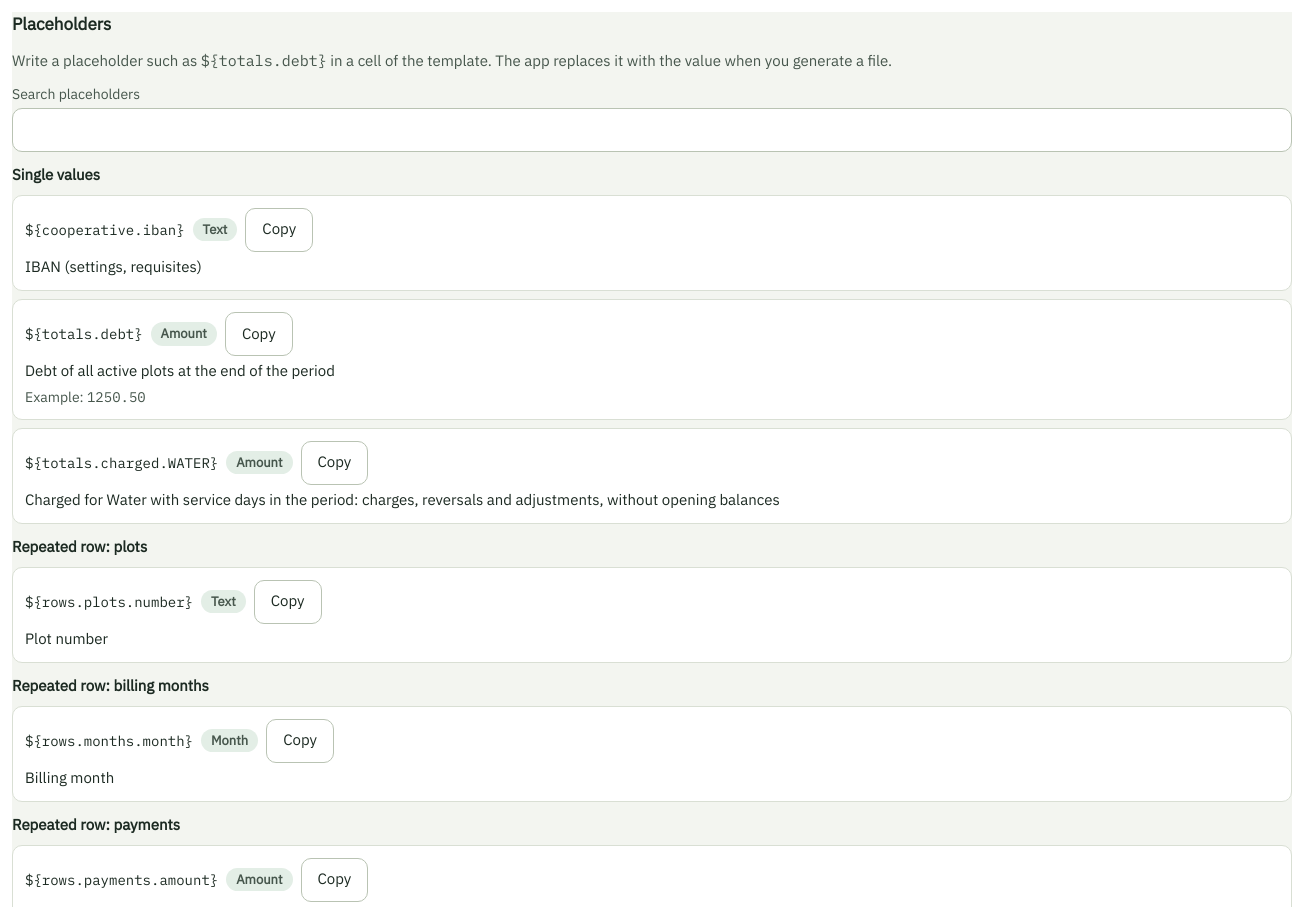
FieldCatalog › says it could not copy when the clipboard and the fallback both fail
This screenshot has width=1304, height=907.
Step 1. Click the button named "Copy the placeholder: Debt of all active plots at the end of the period" → [259, 334], box [225,312,293,356]
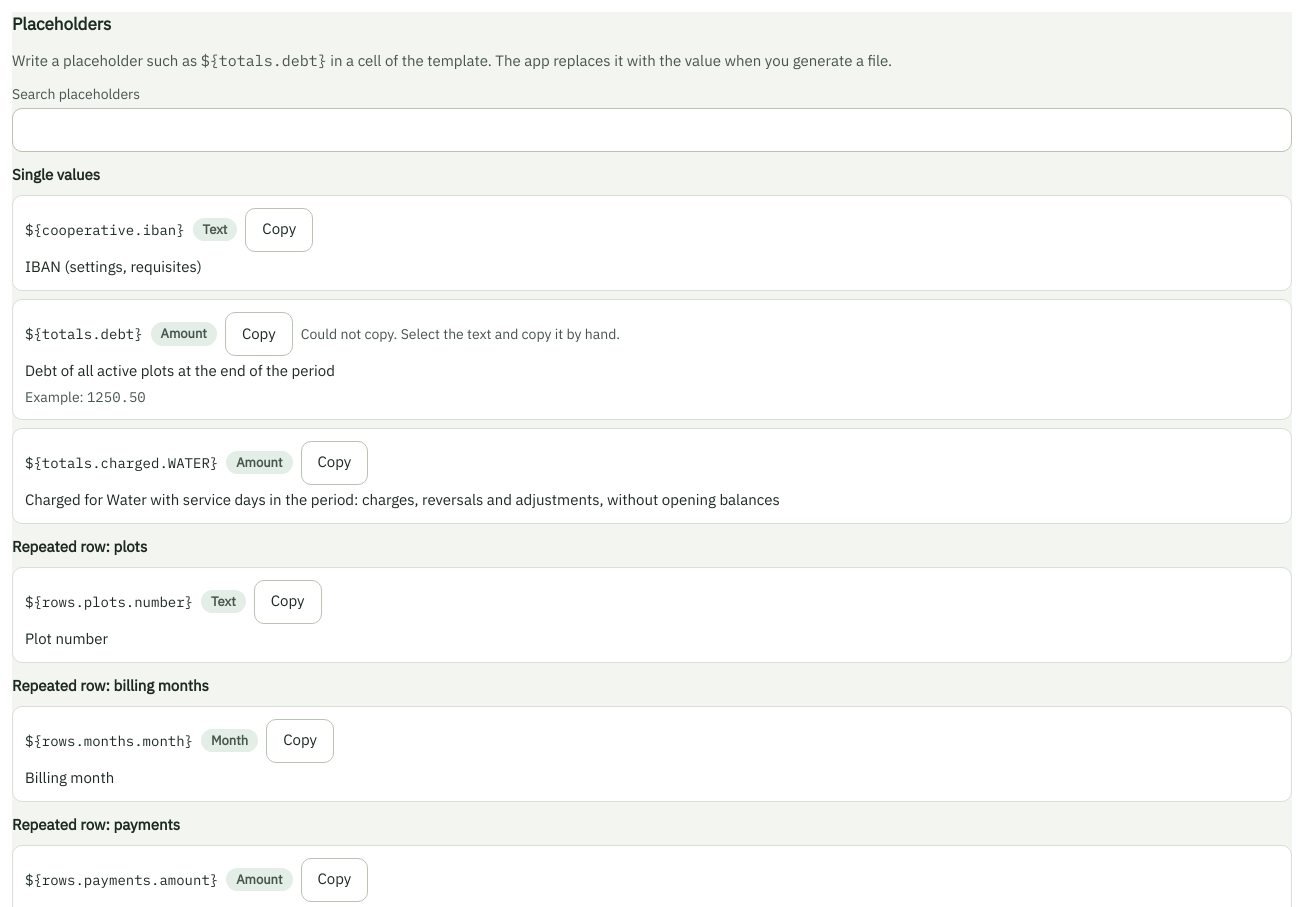
Expected: the text "Could not copy. Select the text and copy it by hand." is shown, [301,324,620,344]
